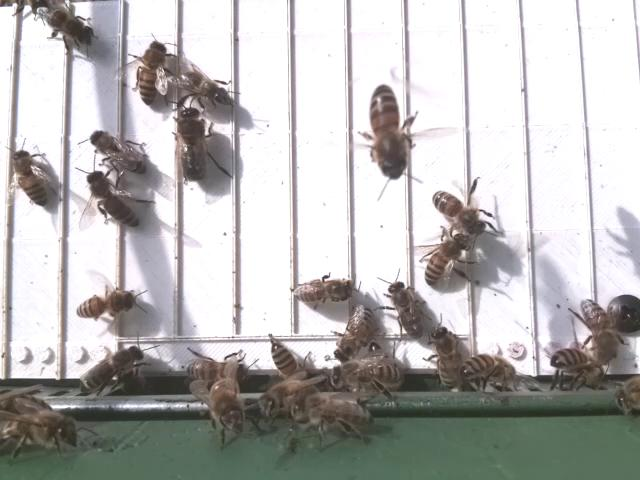Drone: (173, 106, 213, 183)
Worker: (367, 81, 412, 182), (83, 167, 143, 232), (77, 344, 145, 393), (89, 128, 152, 176), (429, 188, 489, 237), (578, 295, 619, 366), (332, 300, 377, 364), (9, 147, 53, 210), (135, 36, 172, 110), (422, 234, 470, 287), (387, 277, 425, 340), (550, 344, 607, 386), (288, 274, 357, 307), (77, 286, 137, 323), (457, 351, 518, 387), (430, 323, 462, 391), (185, 356, 246, 385), (269, 339, 304, 383)
